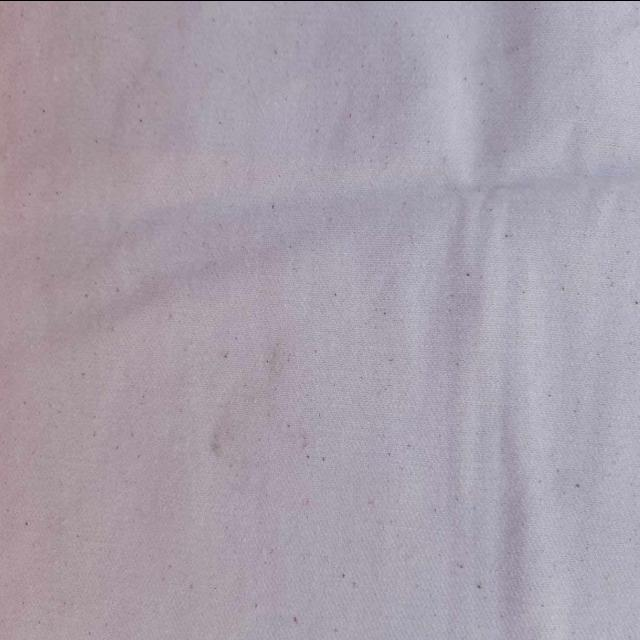taaaches: (202, 432, 228, 469)
